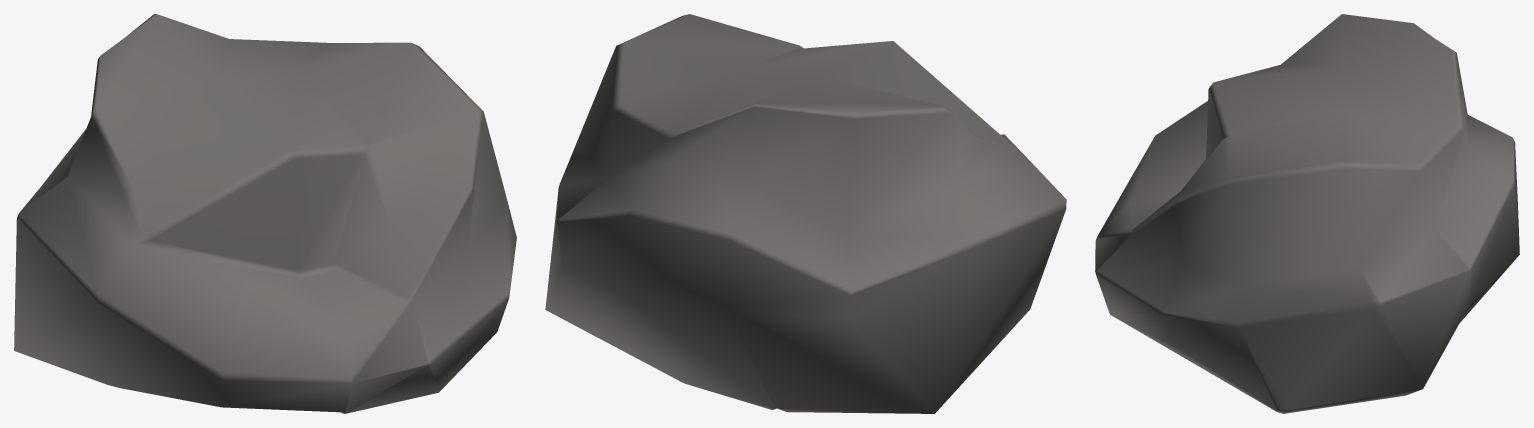
The model's file is Asteroid3.glb.
The picture shows the model from 3 angles, left to right: view 1: azimuth 30°, elevation 25°; view 2: azimuth 150°, elevation 25°; view 3: azimuth 270°, elevation 25°; orthographic projection. The views are drawn at different scales.
Parts seen in each view (by area): view 1: Аsteroid_03; view 2: Аsteroid_03; view 3: Аsteroid_03.
Boxes of the visible parts, x1,y1,x2,y2 form: Аsteroid_03: (14, 14, 516, 413); Аsteroid_03: (545, 14, 1066, 413); Аsteroid_03: (1095, 14, 1519, 413).
Bounding box in the file's own units: 7 × 5.3 × 6.93.
1 material, 1 textured.
